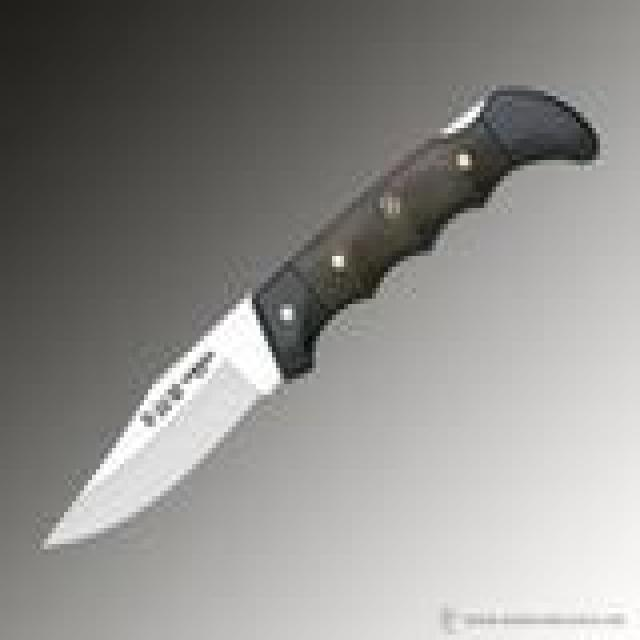Knife: (14, 83, 612, 571)
